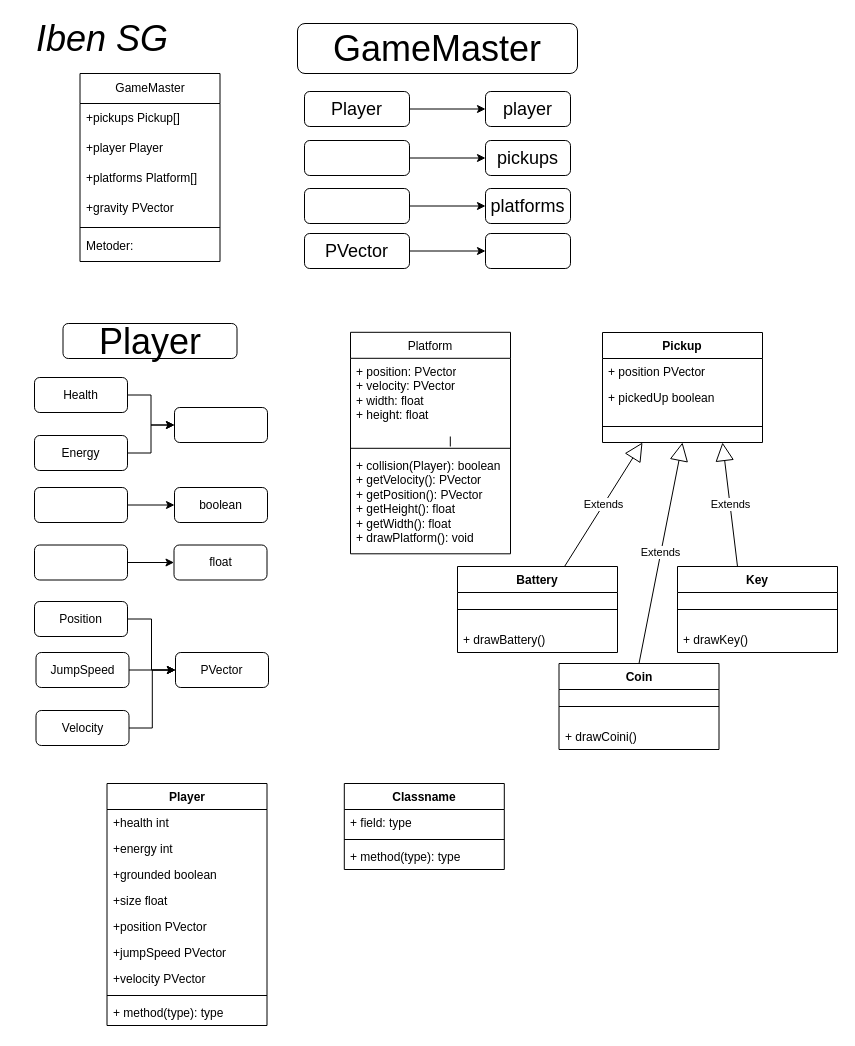
This 855x1046 diagram has some shape labels left out. Each missing label, with the centre of its shape:
"gravity" goes at [527,250].
"Grounded" goes at [81,504].
"int" goes at [221,424].
"Pickup[ ]" goes at [357,158].
"Platform[ ]" goes at [357,206].
"Size" goes at [81,562].
